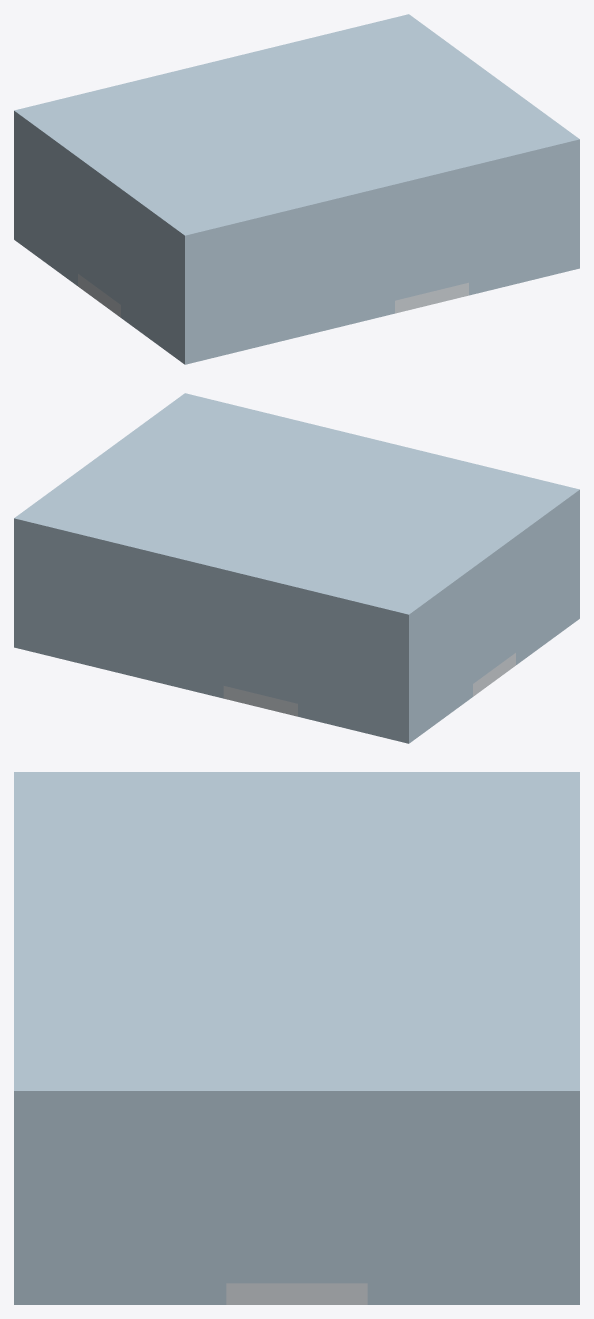
Rendered from ice-cavern.glb.
3 renders of one model, top to bottom at view 1: azimuth 30°, elevation 25°; view 2: azimuth 150°, elevation 25°; view 3: azimuth 270°, elevation 25°, orthographic. The views are drawn at different scales.
Parts seen in each view (by area): view 1: ice-rock_33, ice-rock_24, ice-rock_16, plug_ice_south, ice-rock_7, plug_ice_west, ice-rock_23, ice-rock_22, ice-rock_19, ice-rock_25, ice-rock_20, ice-rock_21 (+9 smaller); view 2: ice-rock_33, ice-rock_2, ice-rock_1, ice-rock_16, plug_ice_north, ice-rock_7, plug_ice_west, ice-rock_26, ice-rock_3, ice-rock_5, ice-rock_27, snow_1 (+1 smaller); view 3: ice-rock_33, ice-rock_17, plug_ice_east, ice-rock_4, ice-rock_6, ice-rock_12, ice-rock_9, ice-rock_28, ice-rock_2, snow_16.
Boxes of the visible parts, x1,y1,x2,y2 form: ice-rock_33: (14,14,579,248); ice-rock_24: (271,197,394,343); ice-rock_16: (121,202,197,364); plug_ice_south: (395,205,468,300); ice-rock_7: (49,150,77,285); plug_ice_west: (78,196,120,304); ice-rock_23: (493,167,518,289); ice-rock_22: (246,227,271,349); ice-rock_19: (543,155,567,277); ice-rock_25: (469,173,493,295); ice-rock_20: (222,233,246,355); ice-rock_21: (518,161,542,283); ice-rock_33: (14,393,579,627); ice-rock_2: (14,531,223,698); ice-rock_1: (298,600,415,743); ice-rock_16: (516,502,579,664); plug_ice_north: (223,608,297,703); ice-rock_7: (444,581,472,717); plug_ice_west: (473,575,515,683); ice-rock_26: (223,582,297,626); ice-rock_3: (416,612,430,738); ice-rock_5: (430,602,444,727); ice-rock_27: (473,549,515,606); snow_1: (223,686,297,716); ice-rock_33: (14,772,579,1112); ice-rock_17: (14,1112,226,1304); plug_ice_east: (226,1155,367,1283); ice-rock_4: (509,1112,556,1304); ice-rock_6: (462,1112,509,1304); ice-rock_12: (367,1112,414,1304); ice-rock_9: (415,1112,461,1304); ice-rock_28: (226,1112,367,1155); ice-rock_2: (556,1112,579,1304); snow_16: (226,1283,367,1304).
Bounding box in the file's own units: 16 × 5 × 12.
